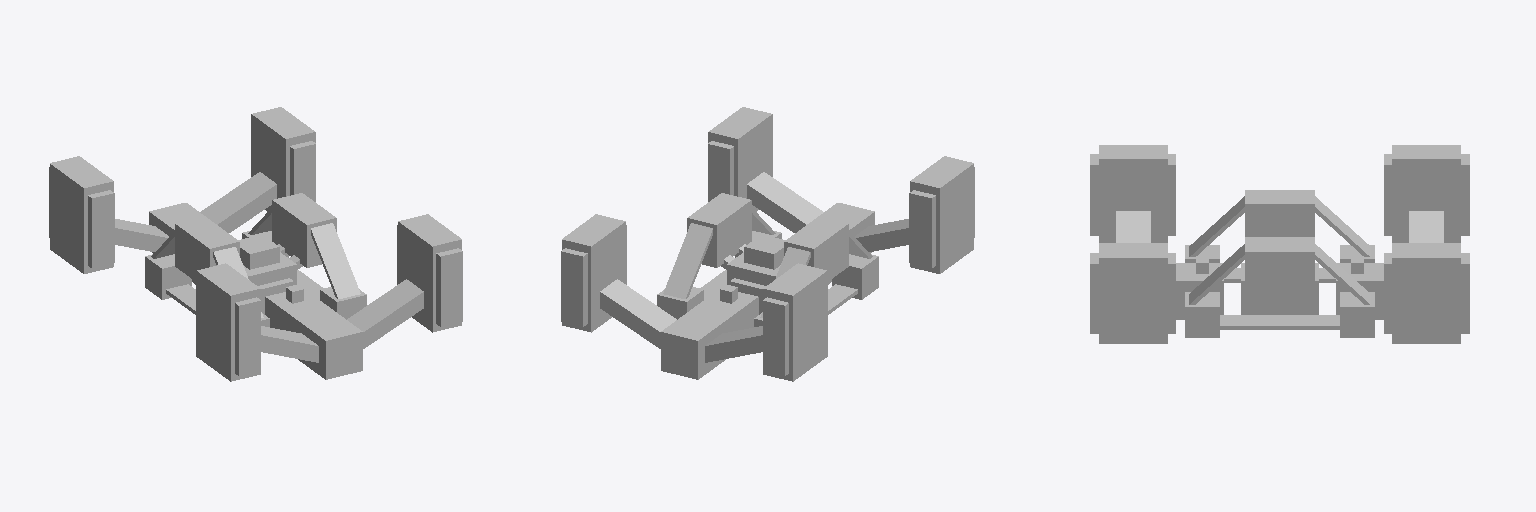
File: frame.obj
3 views of the same model, side by side, from view 1: azimuth 30°, elevation 25°; view 2: azimuth 150°, elevation 25°; view 3: azimuth 270°, elevation 25° (orthographic).
Parts seen in each view (by area): view 1: cube_16, cube_12, cube_6, cube_0, cube_10, cube_40, cube_1, cube_35, cube_3, cube_8, cube_13, cube_15 (+12 smaller); view 2: cube_12, cube_16, cube_10, cube_4, cube_6, cube_40, cube_3, cube_35, cube_1, cube_11, cube_17, cube_14 (+12 smaller); view 3: cube_6, cube_10, cube_12, cube_16, cube_40, cube_35, cube_30, cube_38, cube_39, cube_21, cube_2, cube_5 (+15 smaller).
Boxes of the visible parts, x1,y1,x2,y2 form: cube_16: [196, 263, 260, 381]; cube_12: [50, 156, 113, 273]; cube_6: [398, 214, 461, 332]; cube_0: [287, 304, 362, 379]; cube_10: [251, 107, 315, 211]; cube_40: [272, 193, 336, 267]; cube_1: [347, 279, 423, 348]; cube_35: [175, 217, 239, 281]; cube_3: [200, 172, 276, 232]; cube_8: [436, 248, 462, 326]; cube_13: [88, 190, 114, 268]; cube_15: [235, 297, 260, 375]; cube_12: [763, 263, 827, 381]; cube_16: [910, 156, 973, 273]; cube_10: [562, 214, 625, 332]; cube_4: [661, 304, 736, 379]; cube_6: [708, 107, 772, 211]; cube_40: [687, 193, 751, 267]; cube_3: [600, 279, 676, 348]; cube_35: [784, 217, 848, 281]; cube_1: [747, 172, 823, 232]; cube_11: [561, 248, 587, 326]; cube_17: [909, 190, 935, 268]; cube_14: [763, 297, 788, 375]; cube_6: [1099, 243, 1167, 343]; cube_10: [1392, 243, 1460, 343]; cube_12: [1392, 145, 1460, 242]; cube_16: [1099, 145, 1167, 242]; cube_40: [1245, 237, 1314, 294]; cube_35: [1245, 190, 1314, 236]; cube_30: [1220, 315, 1339, 329]; cube_38: [1340, 292, 1374, 337]; cube_39: [1185, 292, 1219, 337]; cube_21: [1241, 263, 1318, 314]; cube_2: [1116, 211, 1150, 242]; cube_5: [1409, 211, 1443, 242].
Size of the model in its own units: 3.88 by 1.75 by 5.5.